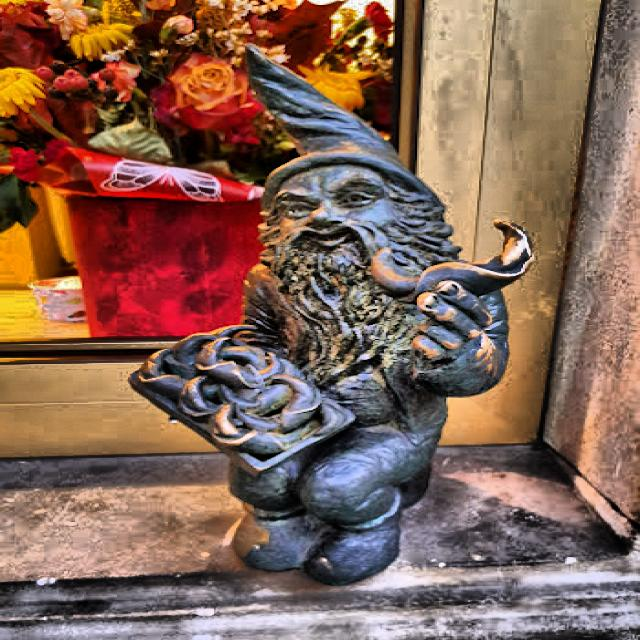Rogalik: (130, 46, 532, 587)
